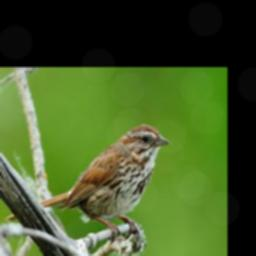Sparrow: (6, 122, 172, 244)
